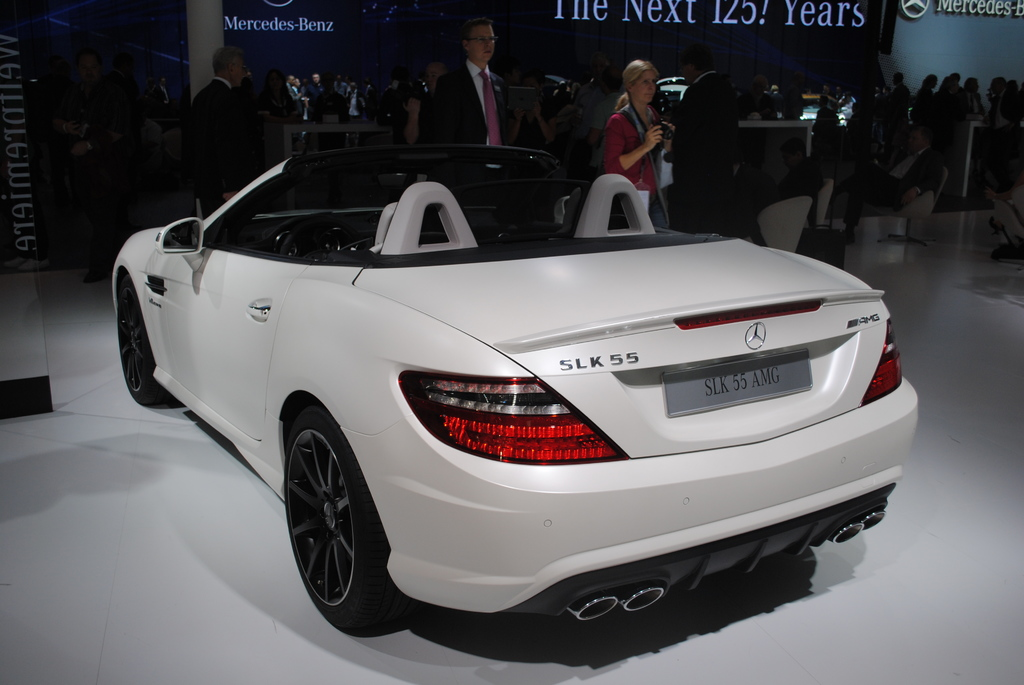person: (506, 70, 558, 150)
